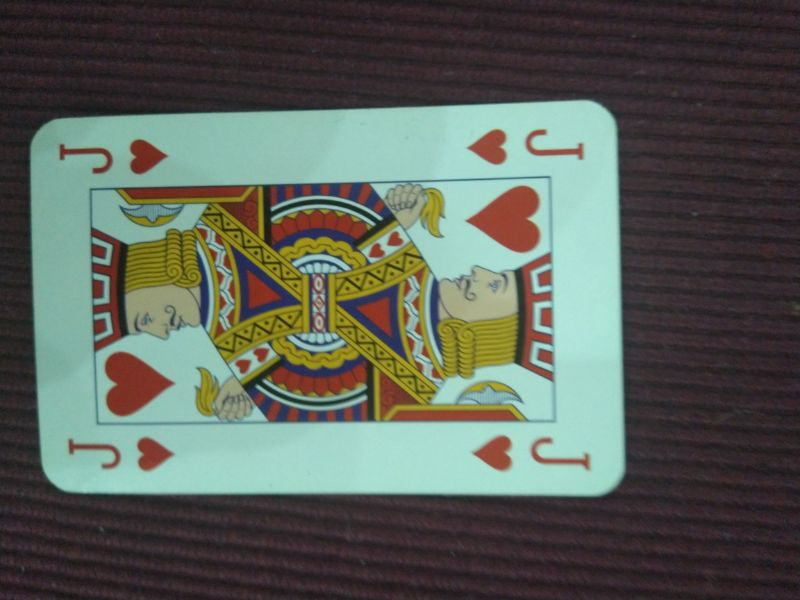Jh: (467, 428, 597, 479), (50, 134, 178, 181), (466, 122, 587, 171), (58, 429, 185, 475)
